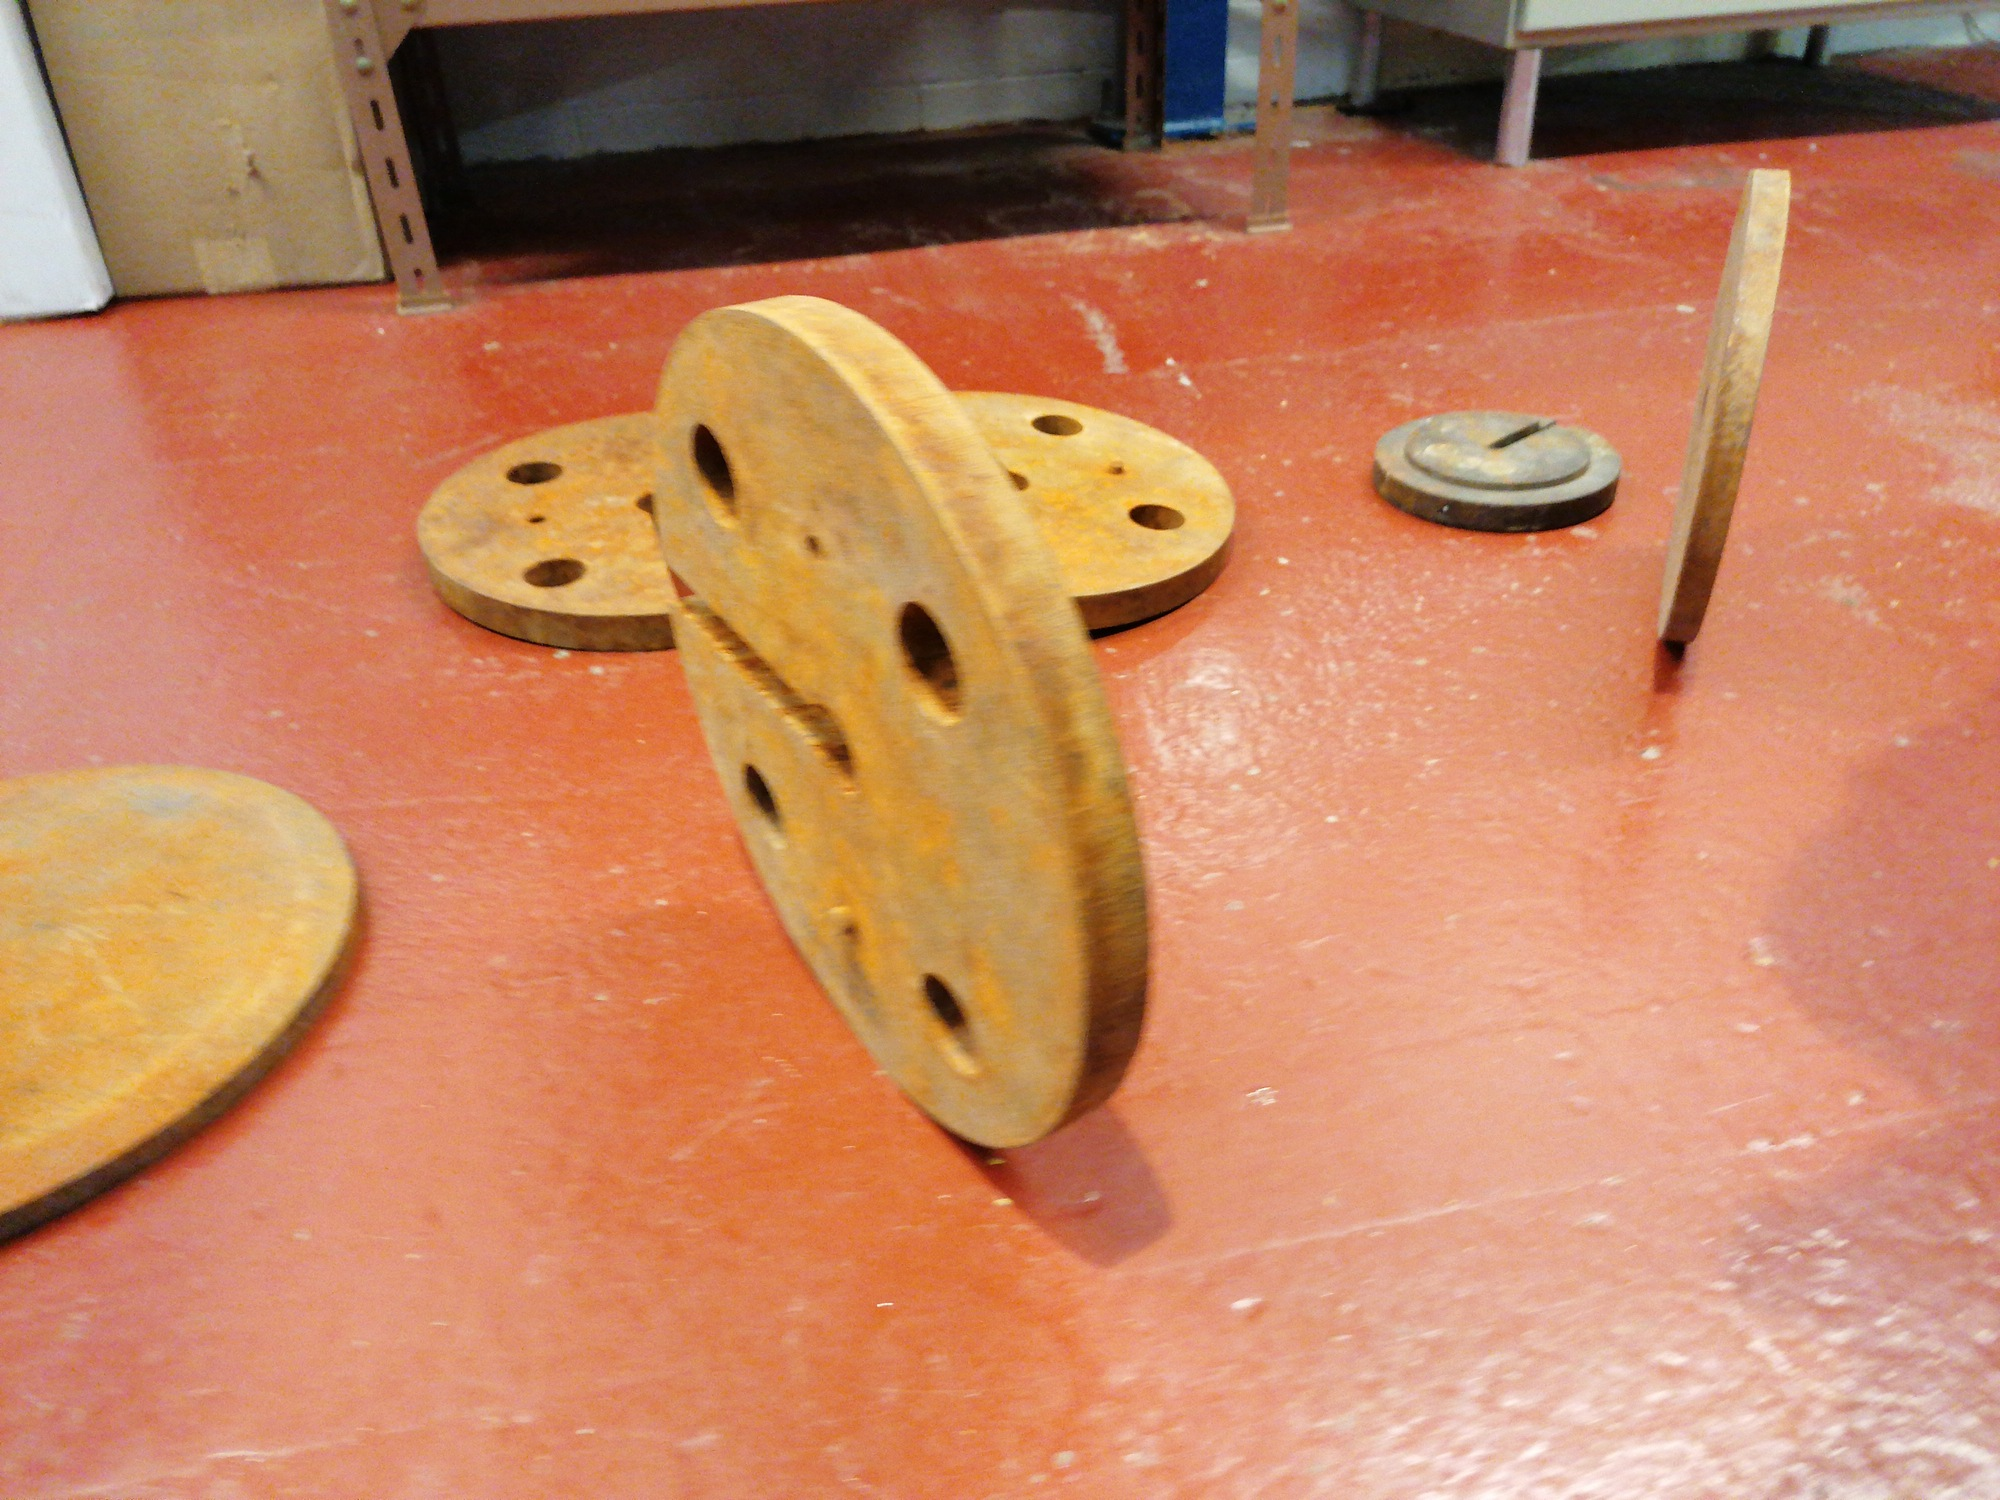flange: (641, 291, 1151, 1150), (2, 758, 372, 1234), (414, 407, 761, 654), (929, 388, 1239, 630), (1654, 165, 1798, 644), (1370, 402, 1622, 534)
